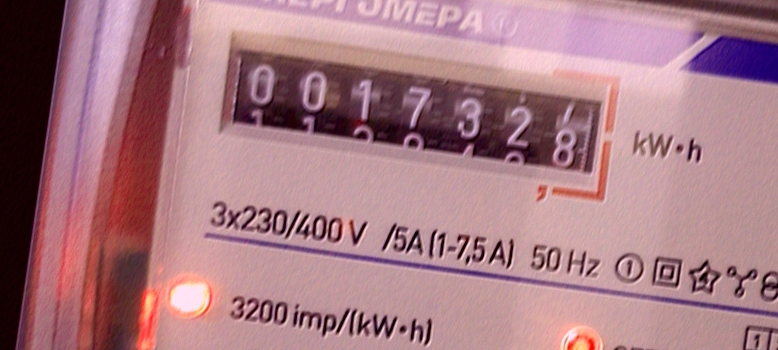0: (242, 61, 280, 109), (296, 66, 331, 115)
1: (349, 75, 377, 124)
2: (500, 103, 535, 151)
3: (452, 95, 485, 142)
7: (399, 84, 432, 133)
8: (547, 125, 578, 170)
screen: (204, 23, 628, 208)
